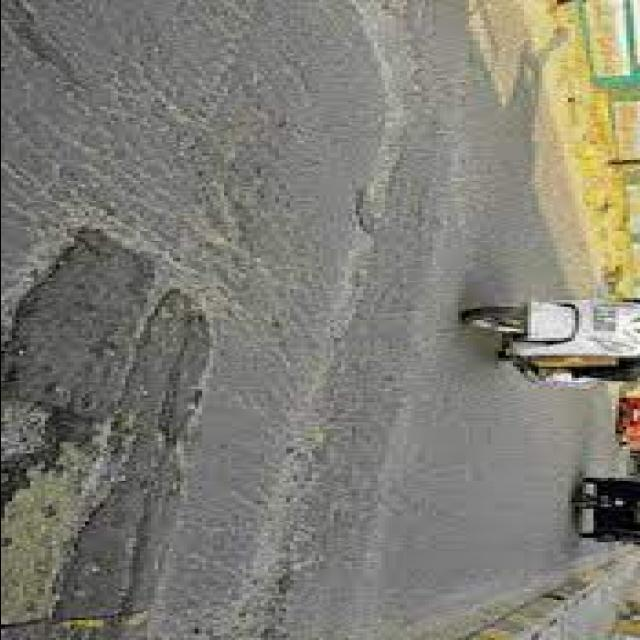speedbreaker: (271, 51, 501, 640)
